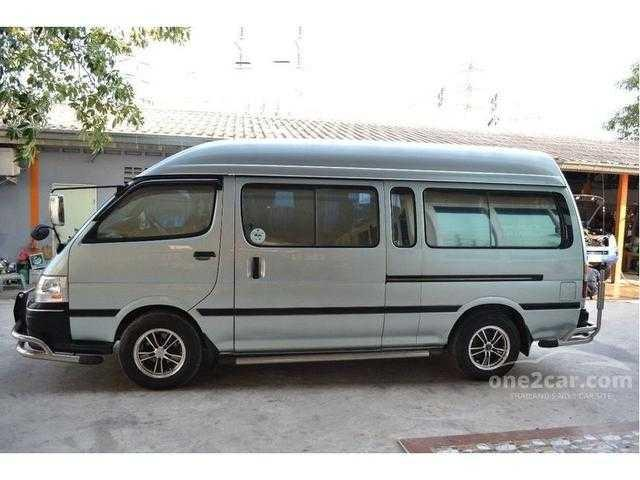car: (4, 127, 600, 389)
